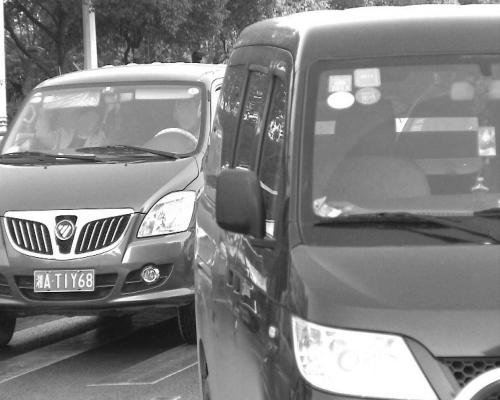Carplate: (31, 268, 97, 298)
